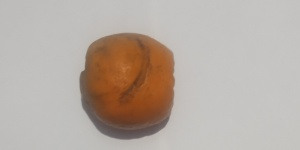BAD: (84, 31, 178, 134)
